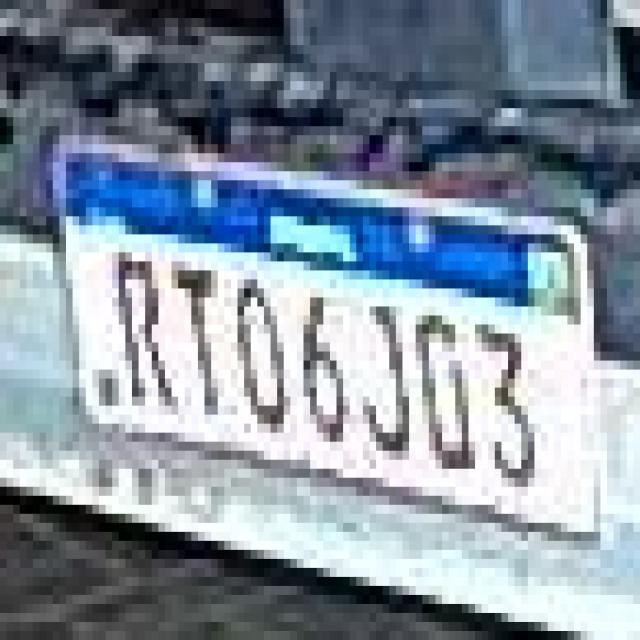0: (411, 306, 476, 477)
3: (474, 313, 536, 488)
6: (293, 284, 352, 451)
J: (356, 290, 416, 458)
O: (227, 274, 292, 438)
R: (110, 239, 172, 416)
T: (170, 256, 230, 421)
